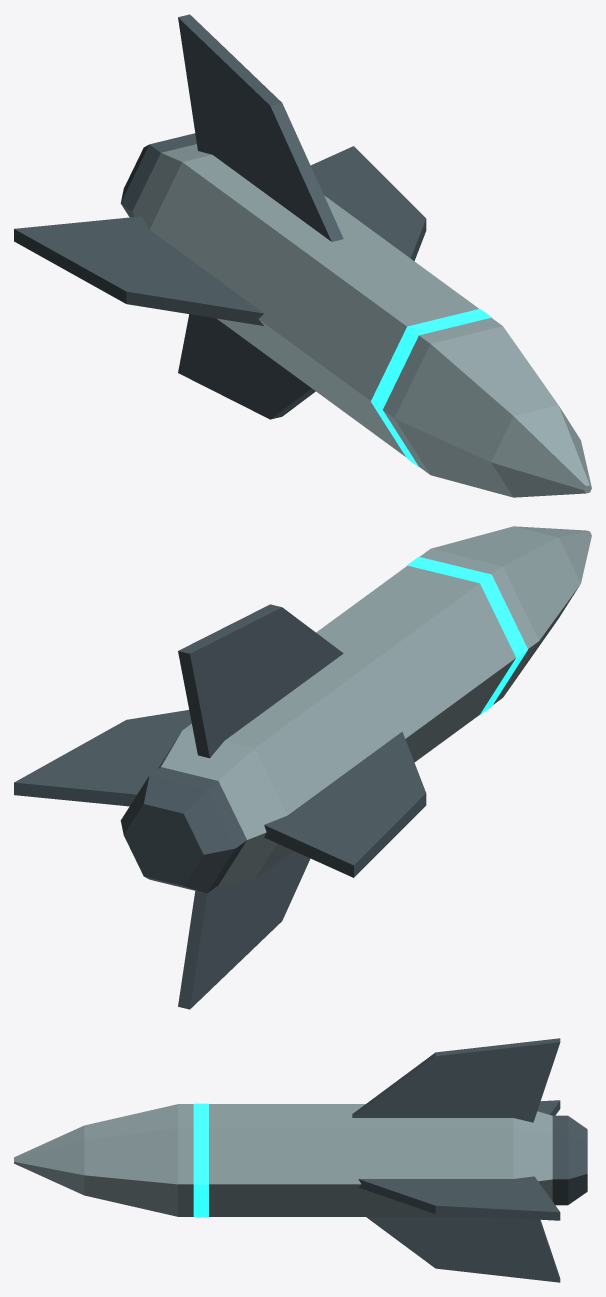
Rendered from dart.glb.
3 renders of one model, top to bottom at view 1: azimuth 30°, elevation 25°; view 2: azimuth 150°, elevation 25°; view 3: azimuth 270°, elevation 25°, orthographic. The views are drawn at different scales.
Parts seen in each view (by area): view 1: Tapered missile shell, Exhaust nozzle, Cyan identification band; view 2: Exhaust nozzle, Tapered missile shell, Cyan identification band; view 3: Tapered missile shell, Exhaust nozzle, Cyan identification band.
Boxes of the visible parts, <box> form: Tapered missile shell: <box>132,144,591,497</box>; Exhaust nozzle: <box>14,14,426,419</box>; Cyan identification band: <box>371,309,491,466</box>; Exhaust nozzle: <box>14,604,426,1009</box>; Tapered missile shell: <box>157,526,591,884</box>; Cyan identification band: <box>407,557,527,714</box>; Tapered missile shell: <box>14,1104,552,1216</box>; Exhaust nozzle: <box>352,1038,587,1282</box>; Cyan identification band: <box>193,1103,208,1217</box>.
Size of the model in its own units: 0.68 by 0.68 by 1.48.
